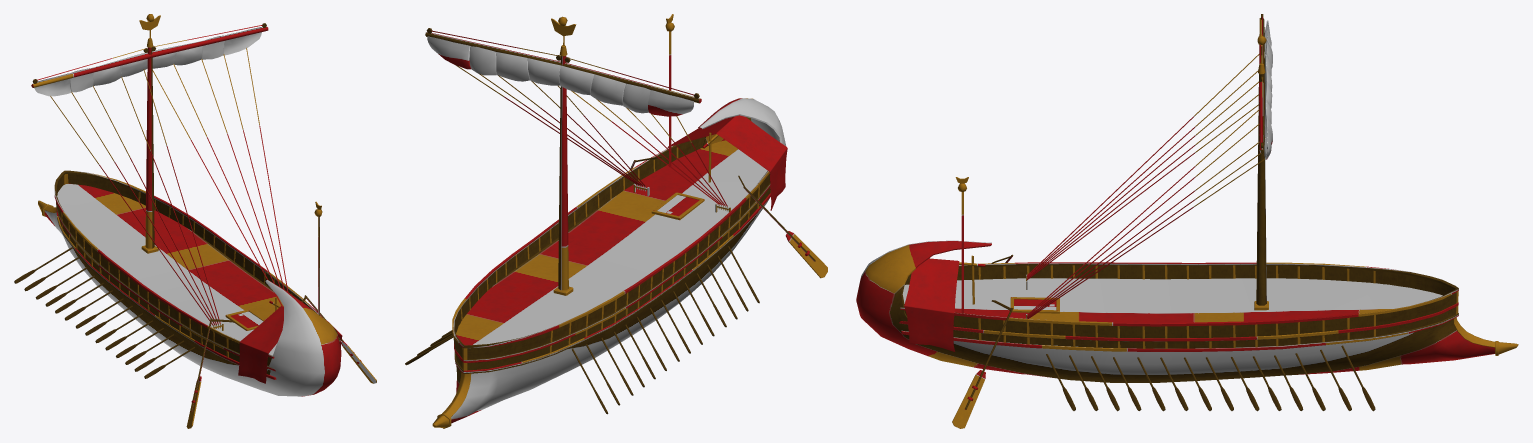
The model's file is SM_Phonecian_Large_boat.fbx.
3 views of the same model, side by side, from view 1: azimuth 30°, elevation 25°; view 2: azimuth 150°, elevation 25°; view 3: azimuth 270°, elevation 25° (orthographic). The views are drawn at different scales.
Visible parts, largest first — view 1: polySurface1311; view 2: polySurface1311; view 3: polySurface1311.
Part boxes in pixels (x1,y1,x2,y2): polySurface1311: (14,14,376,428); polySurface1311: (405,14,827,428); polySurface1311: (856,14,1518,428).
Size of the model in its own units: 1030 by 1239 by 2180.
